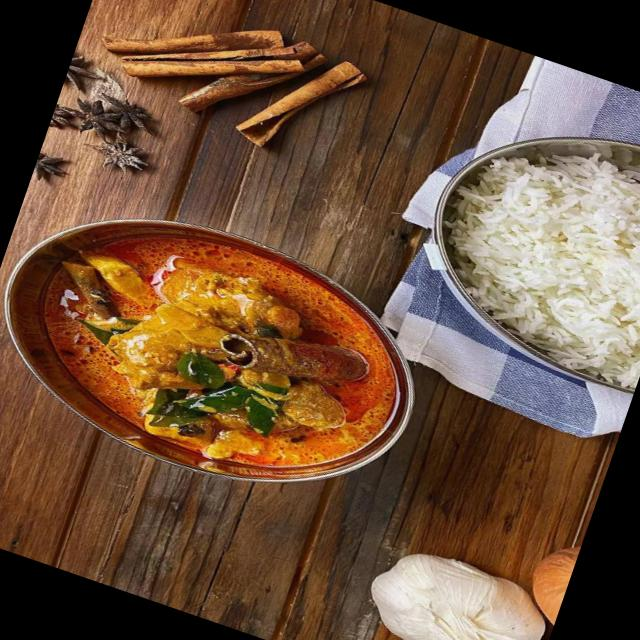chicken: (0, 200, 408, 503)
rice: (434, 122, 640, 377)
